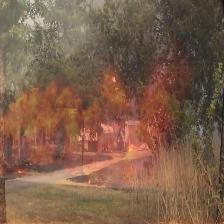fire: (0, 76, 191, 202)
